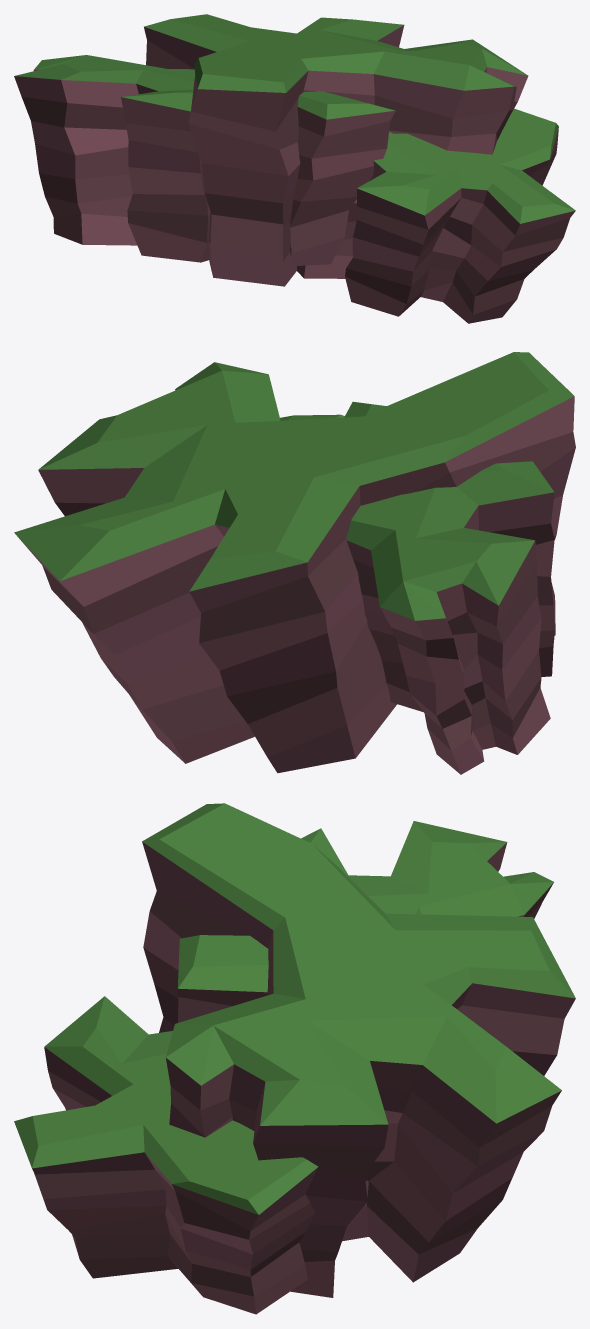
The model's file is woodland_cliff_1_cluster.glb.
3 renders of one model, top to bottom at view 1: azimuth 30°, elevation 25°; view 2: azimuth 150°, elevation 25°; view 3: azimuth 270°, elevation 25°, orthographic. The views are drawn at different scales.
Visible parts, largest first — view 1: Cliff 1.002, Cliff 1.003, Cliff 1.004; view 2: Cliff 1.002, Cliff 1.003; view 3: Cliff 1.002, Cliff 1.004, Cliff 1.003.
Boxes of the visible parts, box(x1,y1,x2,y2) form: Cliff 1.002: box(144, 14, 528, 286); Cliff 1.003: box(14, 55, 395, 266); Cliff 1.004: box(297, 108, 575, 323); Cliff 1.002: box(14, 352, 575, 773); Cliff 1.003: box(344, 401, 554, 774); Cliff 1.002: box(142, 803, 575, 1297); Cliff 1.004: box(14, 996, 318, 1314); Cliff 1.003: box(177, 821, 553, 1022).
Size of the model in its own units: 19.66 by 11.6 by 17.43.
1 material, 1 textured.
